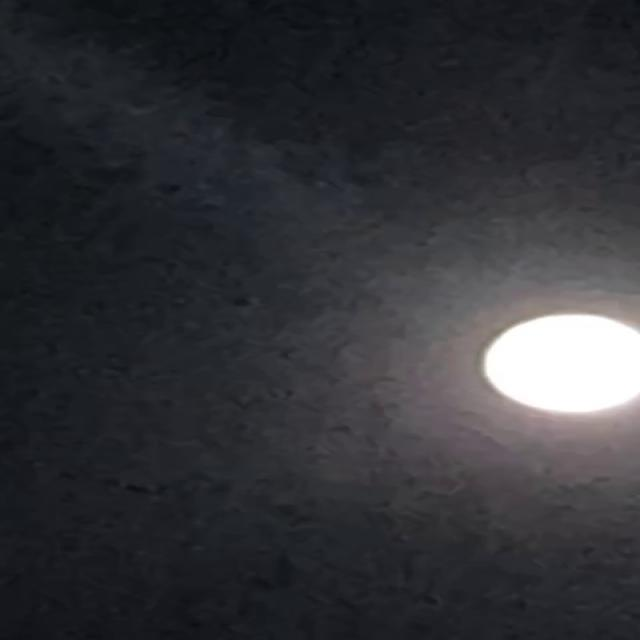moon: (441, 309, 640, 423)
